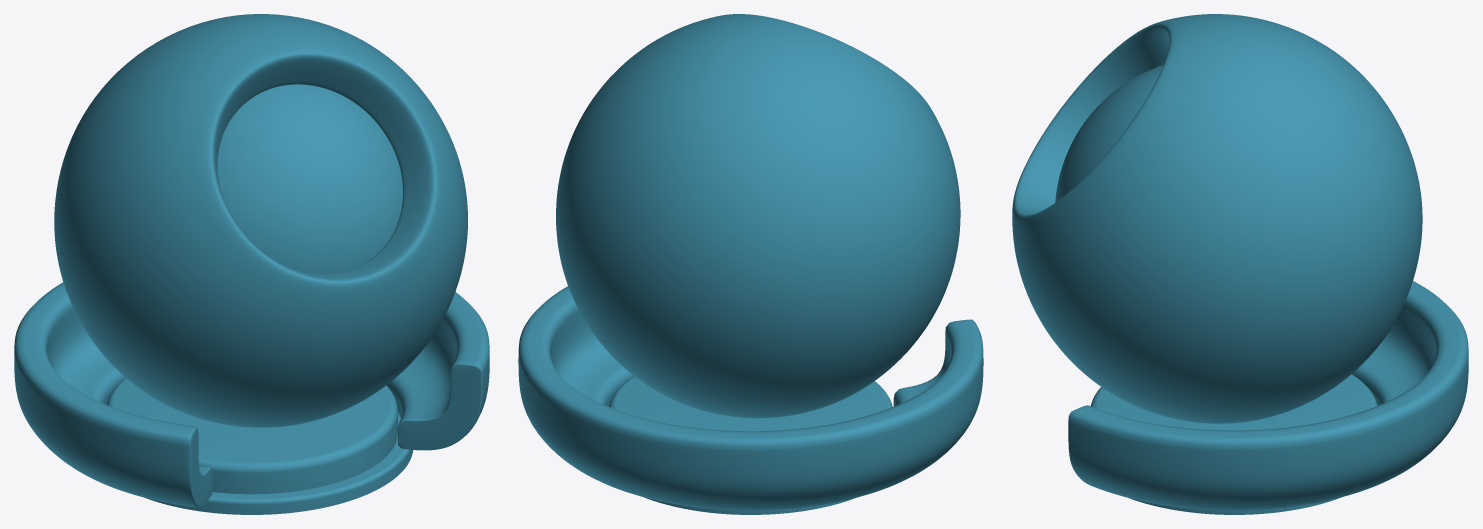
File: gltf_pbr_carpaint.mtlx.glb
3 renders of one model, left to right at view 1: azimuth 30°, elevation 25°; view 2: azimuth 150°, elevation 25°; view 3: azimuth 270°, elevation 25°, orthographic. The views are drawn at different scales.
Visible parts, largest first — view 1: Preview_Mesh, Calibration_Mesh; view 2: Preview_Mesh, Calibration_Mesh; view 3: Preview_Mesh, Calibration_Mesh.
Boxes of the visible parts, box(x1,y1,x2,y2) form: Preview_Mesh: box(14, 14, 489, 507); Calibration_Mesh: box(106, 84, 413, 514); Preview_Mesh: box(518, 14, 983, 510); Calibration_Mesh: box(609, 376, 892, 514); Preview_Mesh: box(1012, 14, 1468, 510); Calibration_Mesh: box(1055, 65, 1377, 514).
Size of the model in its own units: 2.14 by 2.09 by 2.08.
